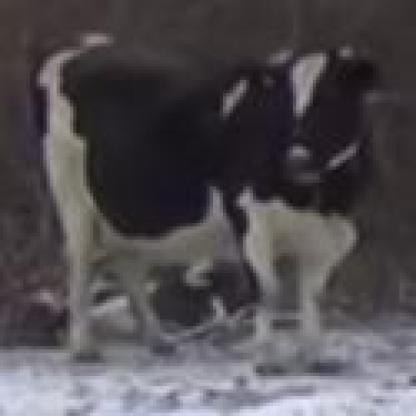cow: (30, 31, 383, 378)
